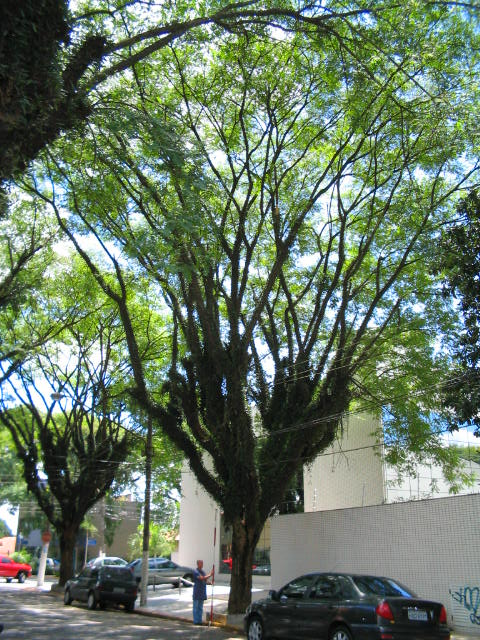crown: (23, 3, 476, 326), (5, 252, 171, 399)
stem: (222, 532, 263, 612), (48, 534, 83, 583)
stick: (208, 510, 218, 626)
tree: (19, 1, 477, 613), (2, 251, 171, 582)
